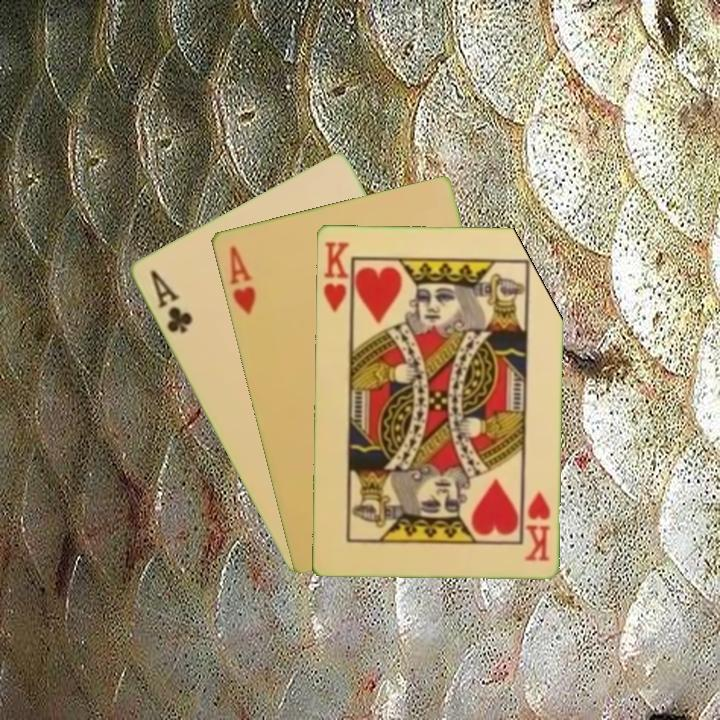Ac: (146, 266, 196, 336)
Ah: (225, 242, 258, 318)
Kh: (319, 237, 354, 319), (520, 488, 552, 564)
